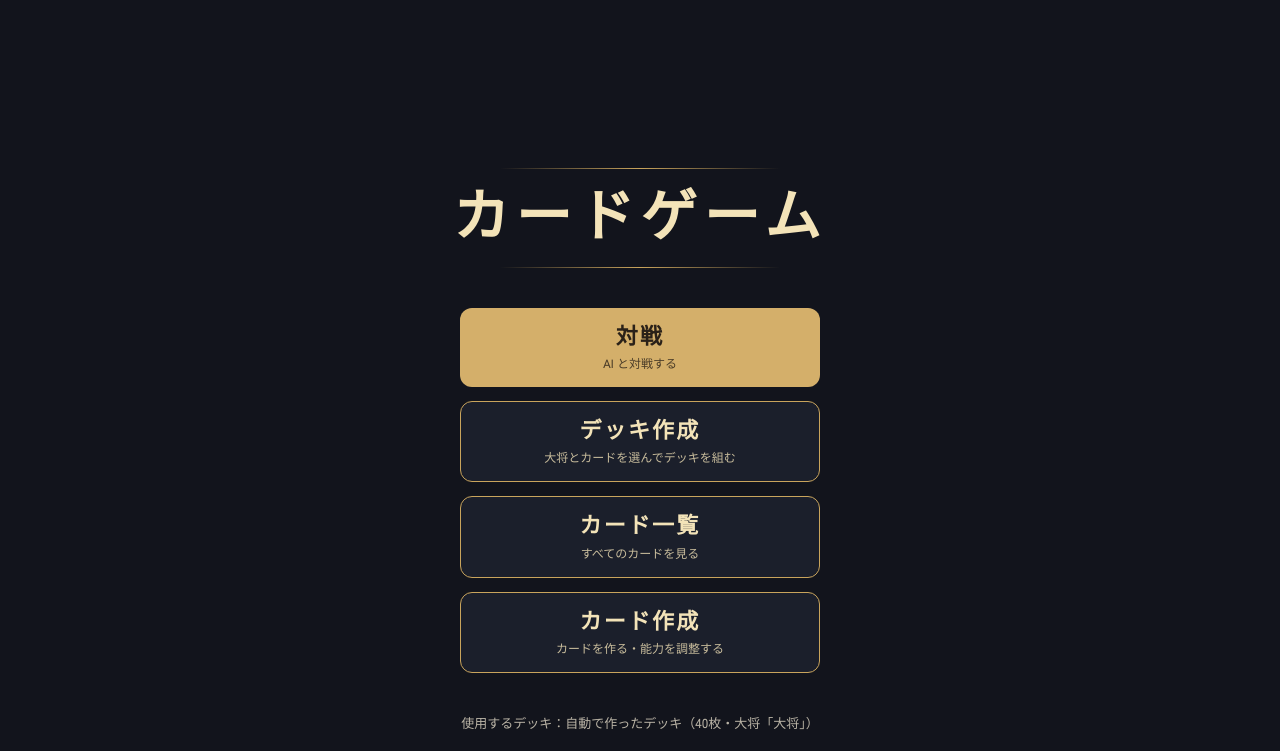
Test case: App navigation › opens each screen from the menu and returns
Click the button "カード一覧 すべてのカードを見る": click(640, 537) 460,496 -> 820,578
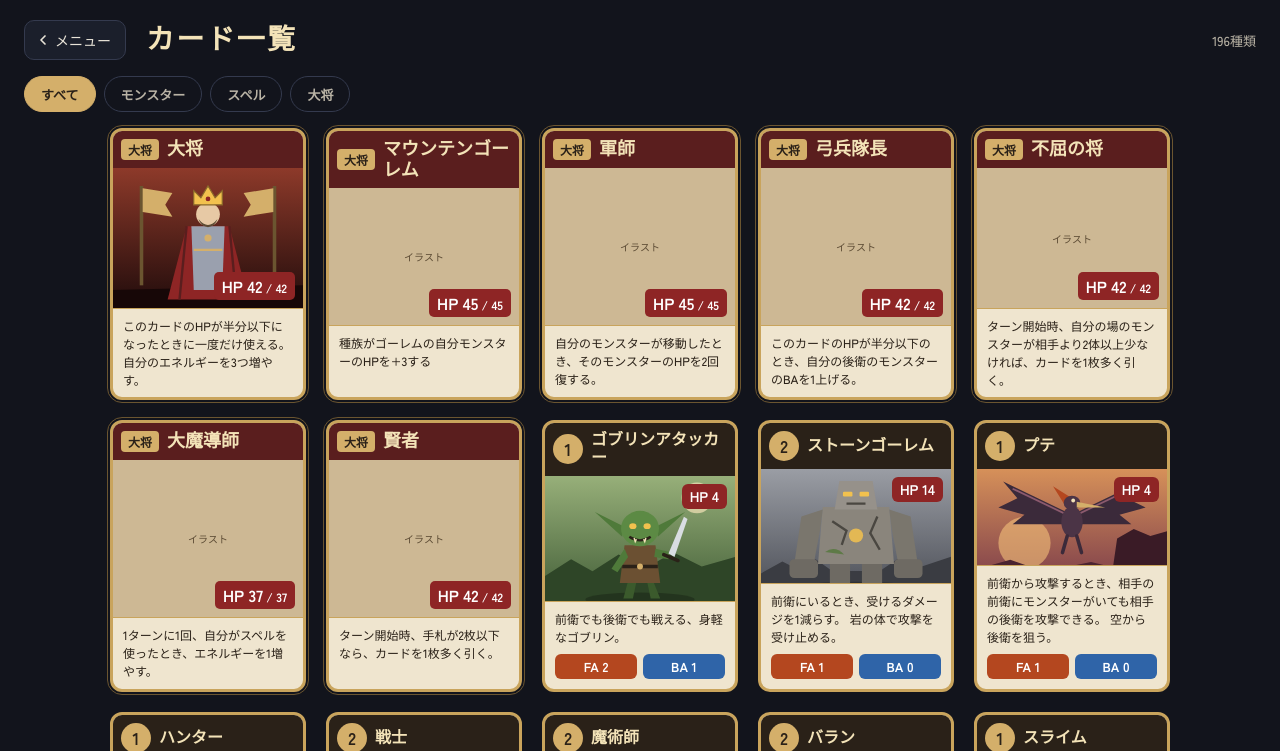
Expected: the heading "カード一覧" is shown, 146,26 -> 297,54
Click the button "メニュー": click(75, 40) 24,20 -> 126,60
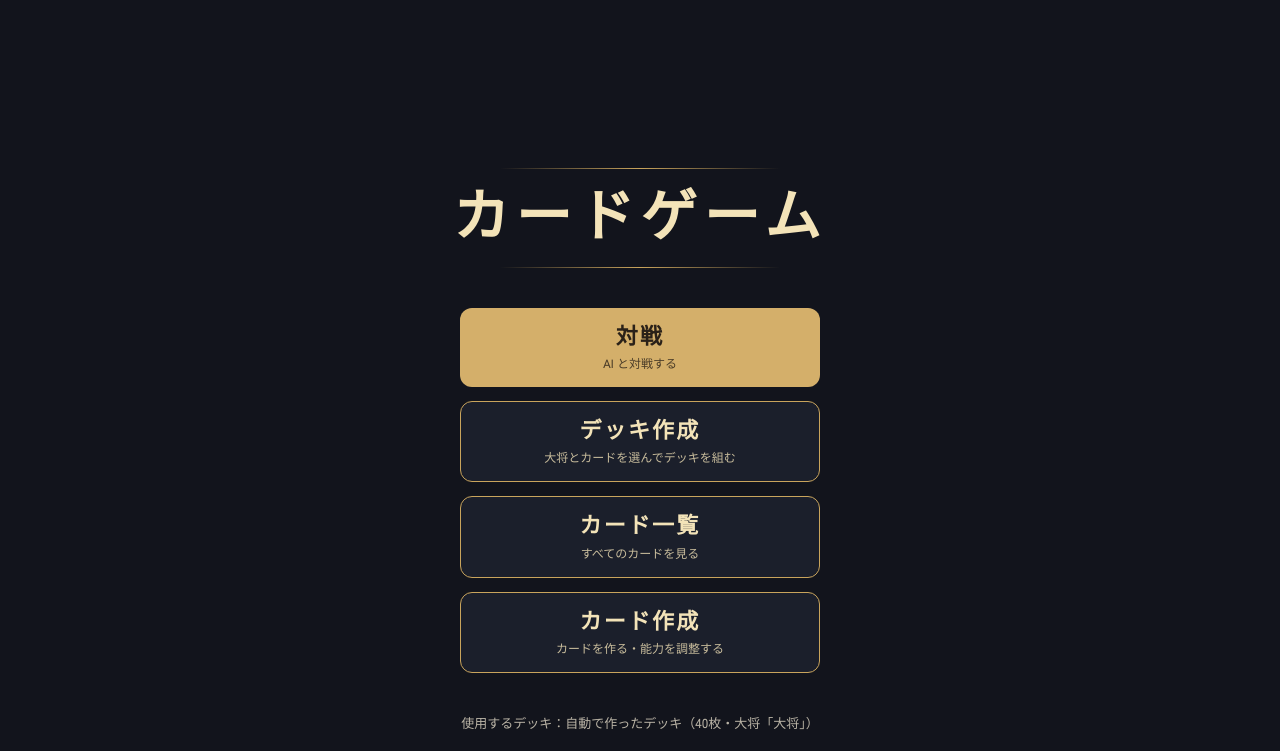
Click the button "デッキ作成 大将とカードを選んでデッキを組む": click(640, 442) 460,401 -> 820,482
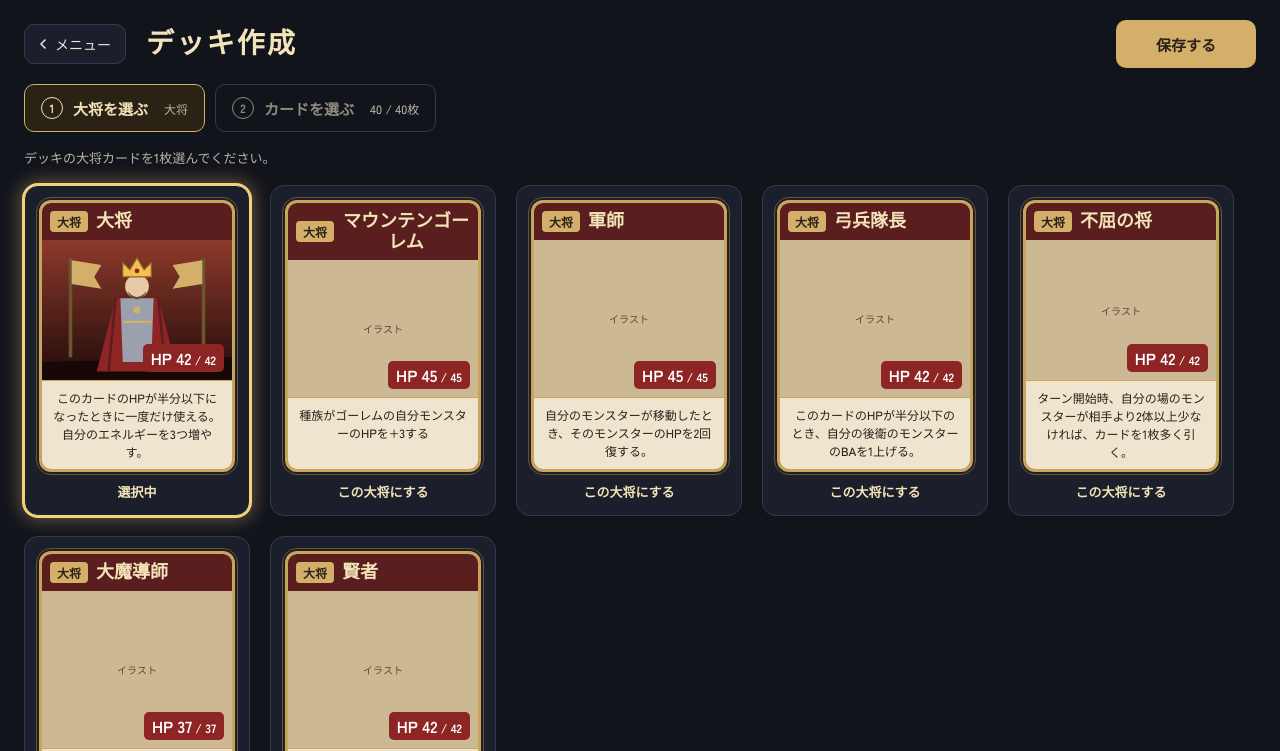
Expected: the heading "デッキ作成" is shown, 146,30 -> 297,58
Click the button "メニュー": click(75, 44) 24,24 -> 126,64
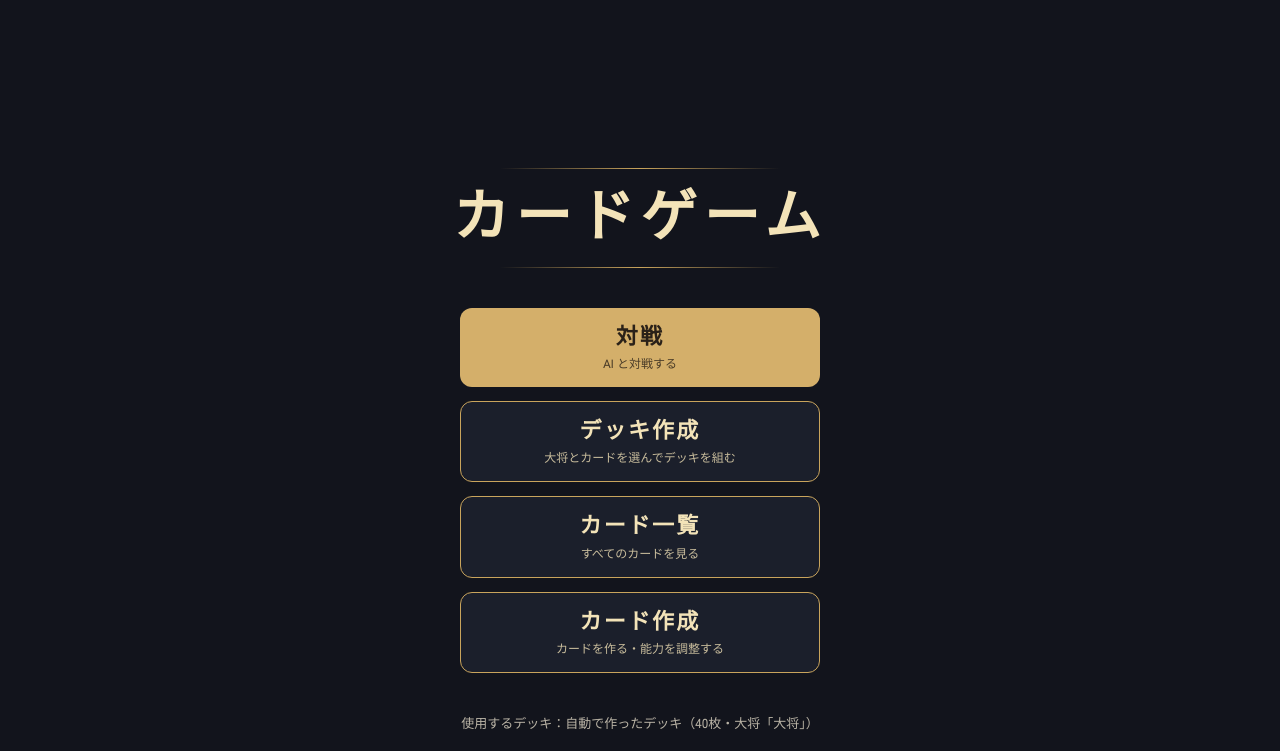
Click the button "対戦 AI と対戦する": click(640, 347) 460,308 -> 820,387
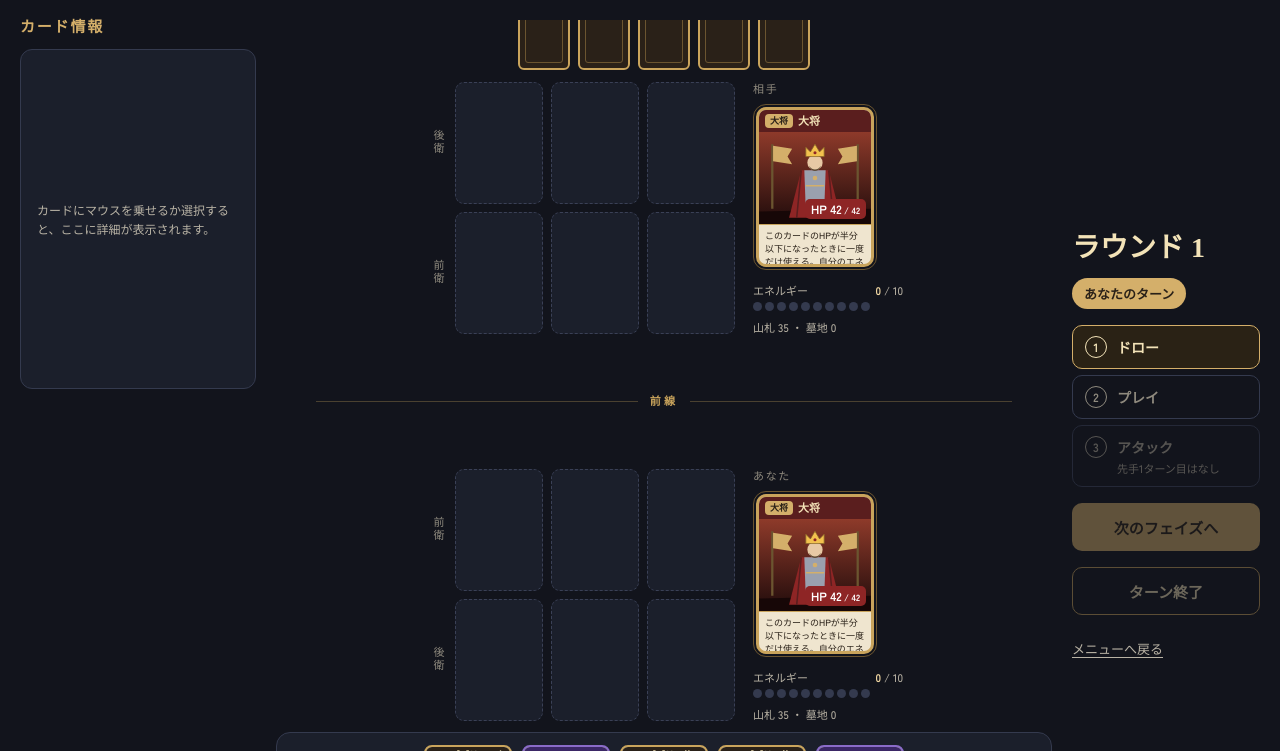
Expected: the heading "カード情報" is shown, 20,19 -> 104,35
